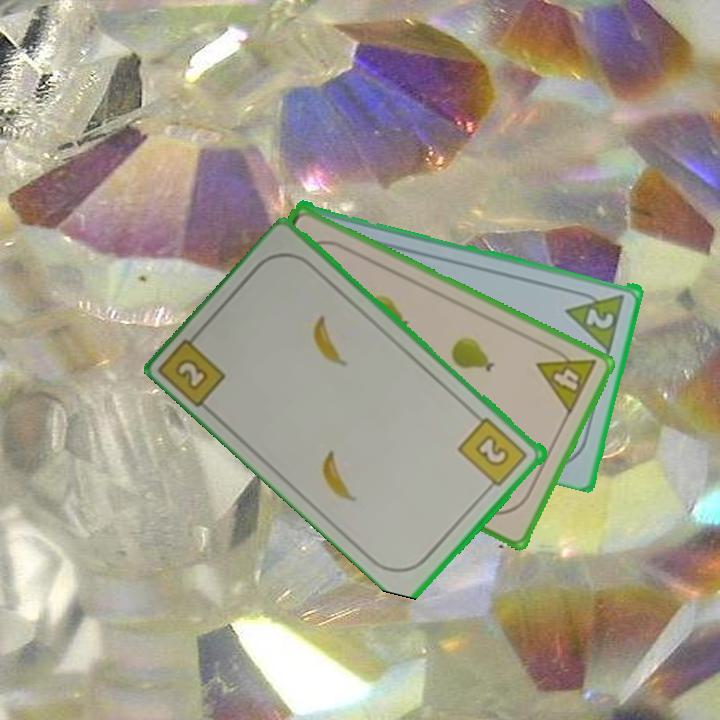2b: (158, 324, 230, 410), (455, 413, 531, 494)
2p: (582, 303, 617, 332)
4p: (533, 340, 600, 418)
